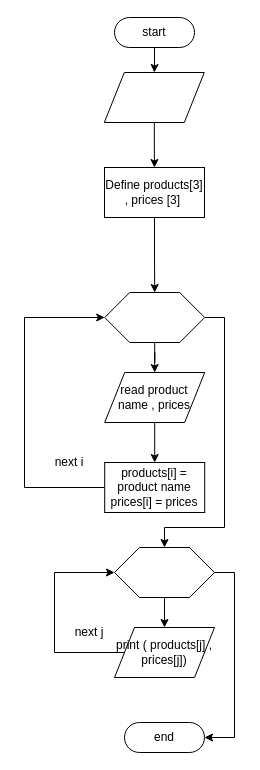
The diagram is 260 pixels wide and 770 high, and some of its shapes have lost their labels. The centre of each missing label's shape, as x and y in pixels:
for i = 1 to 3: point 154,317
for j = 1 to 3: point 164,572
print " enter 3 products and there prices: point 153,97
